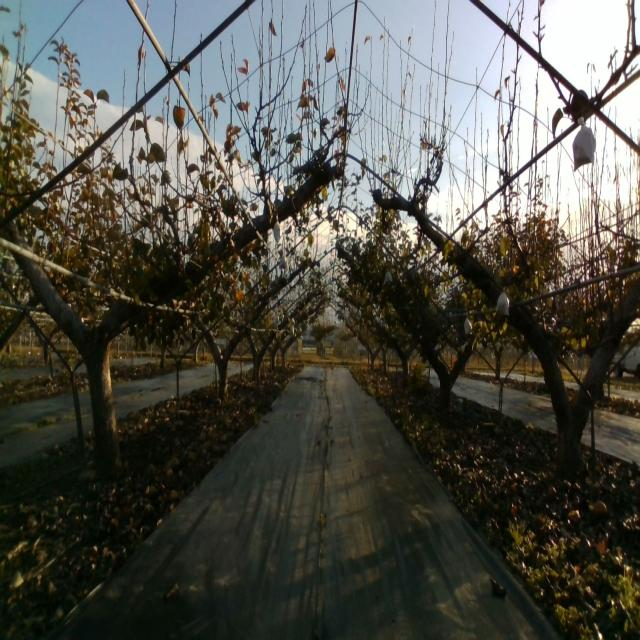pearbags: (572, 116, 596, 172), (494, 287, 510, 318)
